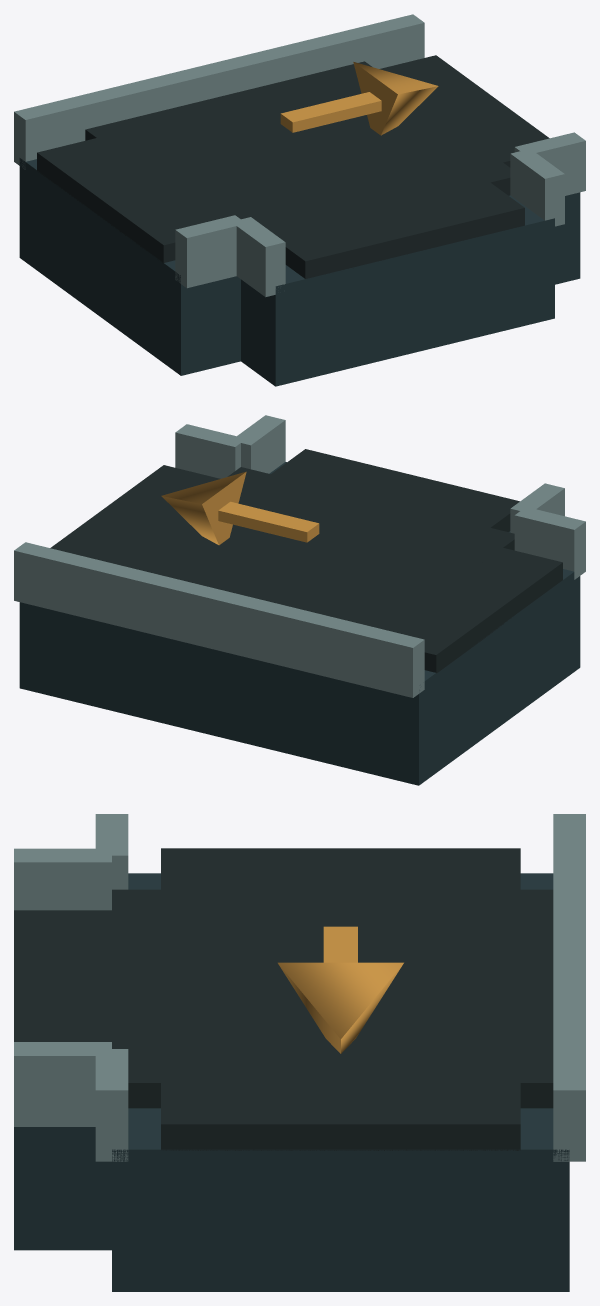
The model's file is belt-6.glb.
3 views of the same model, one above another, from view 1: azimuth 30°, elevation 25°; view 2: azimuth 150°, elevation 25°; view 3: azimuth 270°, elevation 25° (orthographic). The views are drawn at different scales.
Parts seen in each view (by area): view 1: Batched static factory; view 2: Batched static factory; view 3: Batched static factory.
Part boxes in pixels (x1=…): Batched static factory: x1=14, y1=14, x2=585, y2=386; Batched static factory: x1=14, y1=415, x2=585, y2=785; Batched static factory: x1=14, y1=814, x2=585, y2=1291.
Bounding box in the file's own units: 1 × 0.4111 × 0.875.
